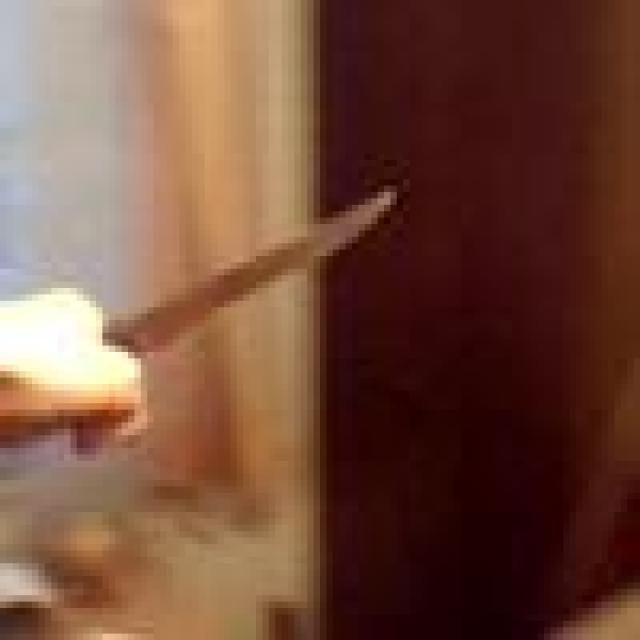faca: (0, 153, 448, 480)
